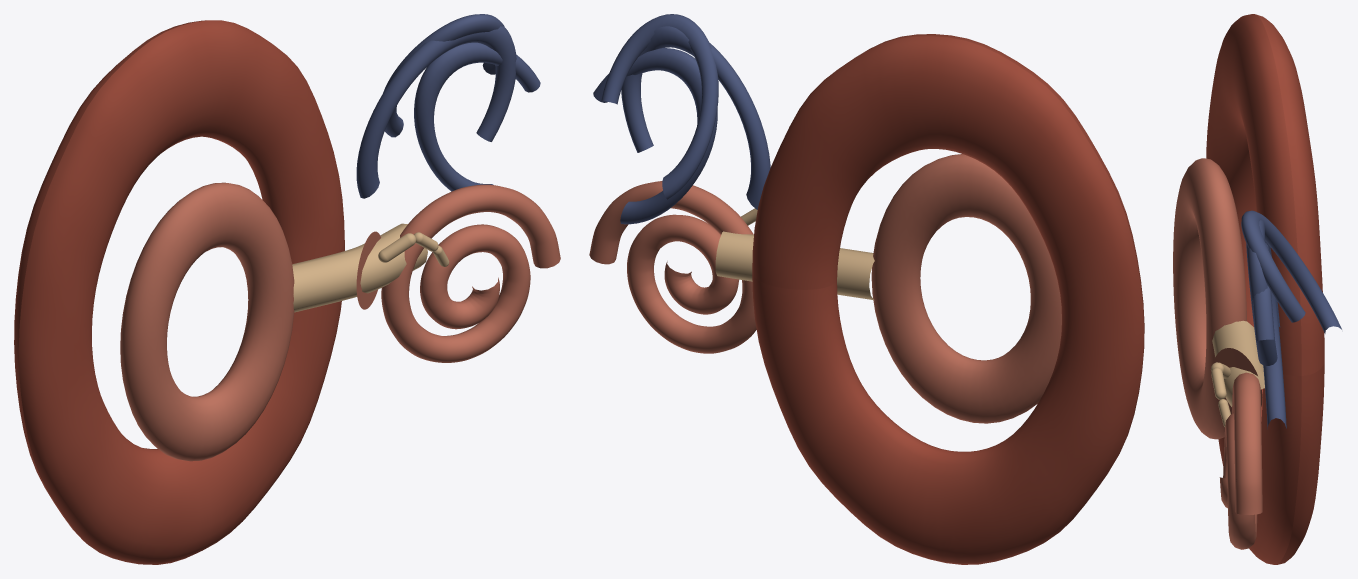
Rendered from ear.5d16ab10.glb.
3 views of the same model, side by side, from view 1: azimuth 30°, elevation 25°; view 2: azimuth 150°, elevation 25°; view 3: azimuth 270°, elevation 25° (orthographic).
Visible parts, largest first — view 1: procedural-ear-surface-1, procedural-ear-surface-2, procedural-ear-surface-8, procedural-ear-surface-9, procedural-ear-surface-3, procedural-ear-surface-10, procedural-ear-surface-11, procedural-ear-surface-4; view 2: procedural-ear-surface-1, procedural-ear-surface-2, procedural-ear-surface-8, procedural-ear-surface-11, procedural-ear-surface-9, procedural-ear-surface-10, procedural-ear-surface-3; view 3: procedural-ear-surface-1, procedural-ear-surface-2, procedural-ear-surface-8, procedural-ear-surface-11, procedural-ear-surface-10, procedural-ear-surface-3, procedural-ear-surface-9, procedural-ear-surface-4, procedural-ear-surface-6.
Part boxes in pixels (x1,y1,x2,y2): procedural-ear-surface-1: [14, 20, 344, 564]; procedural-ear-surface-2: [120, 182, 294, 461]; procedural-ear-surface-8: [381, 184, 560, 362]; procedural-ear-surface-9: [356, 25, 516, 198]; procedural-ear-surface-3: [292, 223, 427, 312]; procedural-ear-surface-10: [414, 42, 540, 191]; procedural-ear-surface-11: [383, 14, 504, 137]; procedural-ear-surface-4: [356, 231, 380, 309]; procedural-ear-surface-1: [752, 34, 1144, 564]; procedural-ear-surface-2: [871, 154, 1061, 423]; procedural-ear-surface-8: [589, 181, 756, 353]; procedural-ear-surface-11: [601, 14, 718, 199]; procedural-ear-surface-9: [621, 26, 770, 209]; procedural-ear-surface-10: [593, 48, 717, 224]; procedural-ear-surface-3: [715, 231, 874, 300]; procedural-ear-surface-1: [1206, 14, 1324, 564]; procedural-ear-surface-2: [1173, 158, 1246, 439]; procedural-ear-surface-8: [1219, 372, 1262, 549]; procedural-ear-surface-11: [1241, 210, 1341, 333]; procedural-ear-surface-10: [1252, 242, 1286, 429]; procedural-ear-surface-3: [1212, 320, 1264, 406]; procedural-ear-surface-9: [1246, 220, 1280, 365]; procedural-ear-surface-4: [1213, 348, 1262, 414]; procedural-ear-surface-6: [1211, 367, 1226, 399].
Size of the model in its own units: 3.22 by 2.97 by 0.8777.
